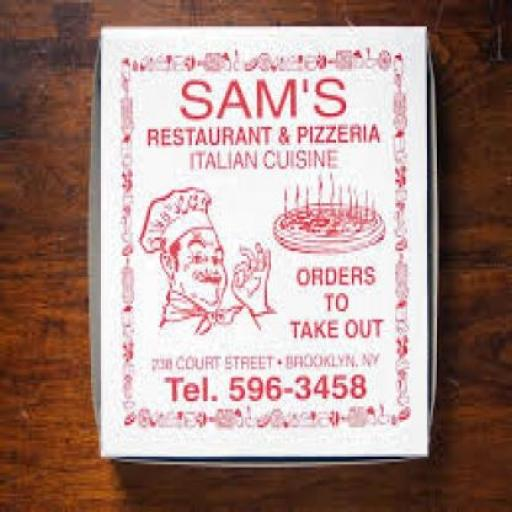cardboard: (85, 21, 439, 461)
